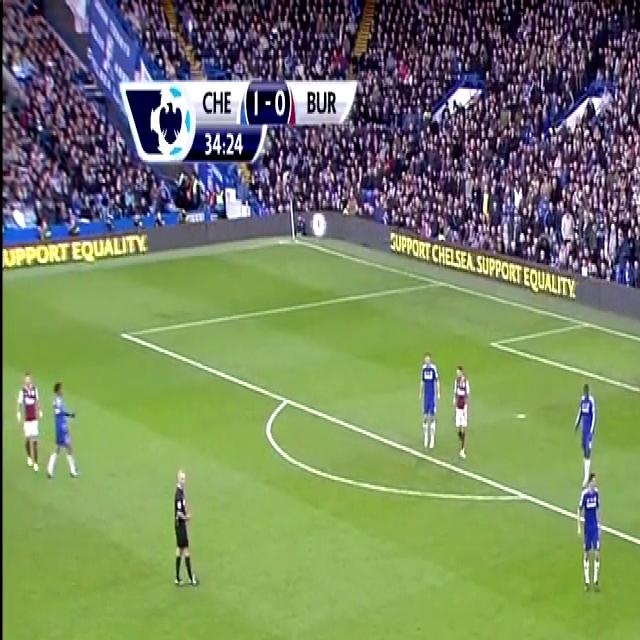soccer-player: (167, 458, 204, 600), (570, 456, 606, 598), (45, 372, 80, 489), (411, 341, 443, 463), (568, 370, 600, 488), (446, 352, 477, 470), (16, 364, 44, 475)
